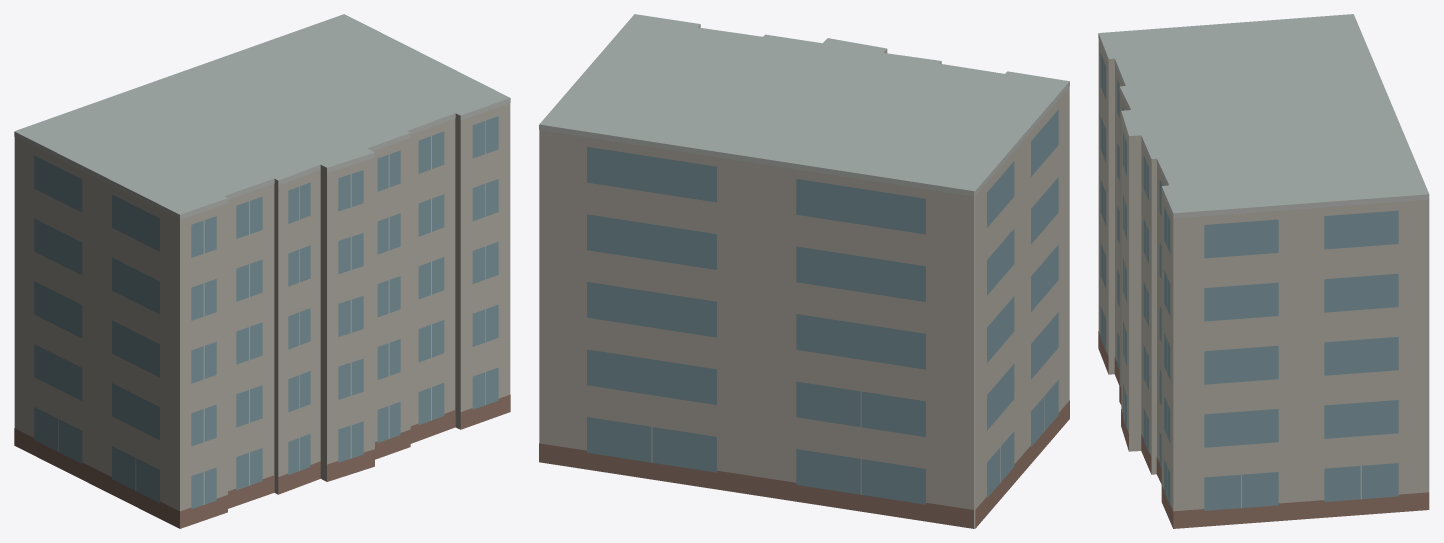
File: survey-upis-32982464.glb
The picture shows the model from 3 angles, left to right: view 1: azimuth 30°, elevation 25°; view 2: azimuth 150°, elevation 25°; view 3: azimuth 270°, elevation 25°; orthographic projection. The views are drawn at different scales.
Parts seen in each view (by area): view 1: survey-upis-32982464.tmp; view 2: survey-upis-32982464.tmp; view 3: survey-upis-32982464.tmp.
Part boxes in pixels (x1,y1,x2,y2): survey-upis-32982464.tmp: [14, 14, 510, 528]; survey-upis-32982464.tmp: [539, 14, 1069, 528]; survey-upis-32982464.tmp: [1098, 14, 1429, 528].
Bounding box in the file's own units: 20.19 × 14.9 × 14.17.
